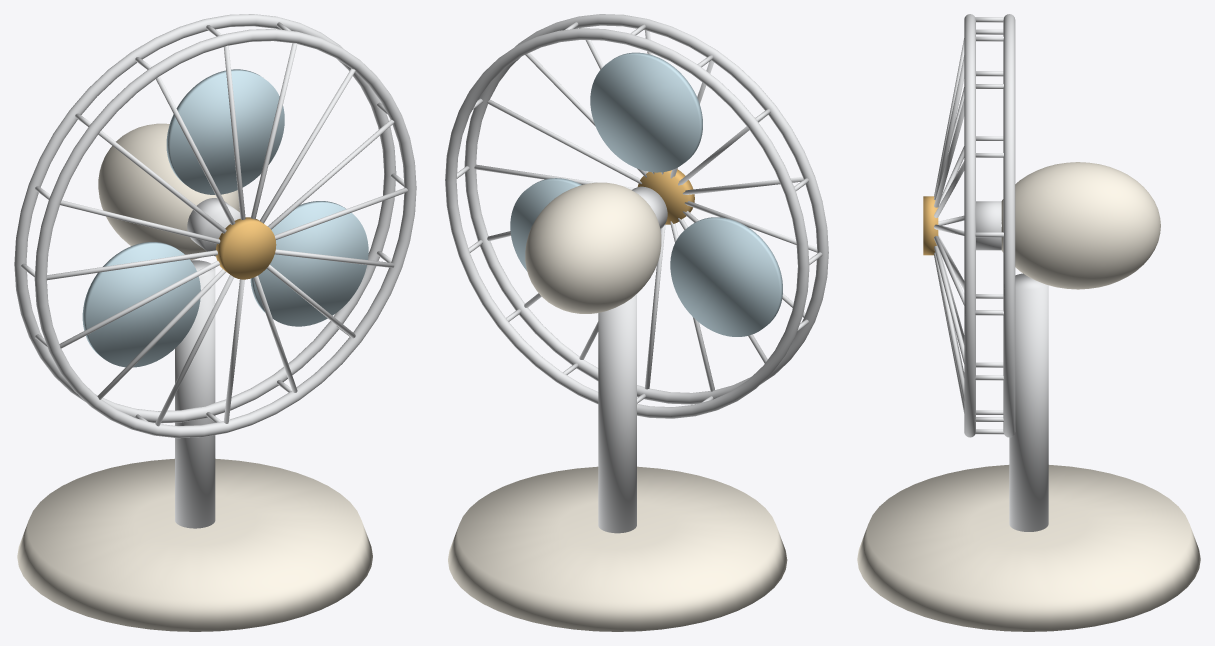
Rendered from electric-fan.glb.
3 renders of one model, left to right at view 1: azimuth 30°, elevation 25°; view 2: azimuth 150°, elevation 25°; view 3: azimuth 270°, elevation 25°, orthographic. The views are drawn at different scales.
Visible parts, largest first — view 1: part0, part3, part4, part1, part41, part10; view 2: part0, part3, part4, part1, part41, part10; view 3: part0, part3, part1, part10, part41.
Part boxes in pixels (x1=…): part0: x1=17, y1=123, x2=372, y2=631; part3: x1=14, y1=14, x2=416, y2=438; part4: x1=82, y1=69, x2=368, y2=367; part1: x1=175, y1=260, x2=215, y2=528; part41: x1=216, y1=217, x2=276, y2=279; part10: x1=21, y1=22, x2=404, y2=422; part0: x1=448, y1=182, x2=787, y2=631; part3: x1=445, y1=14, x2=828, y2=418; part4: x1=510, y1=52, x2=782, y2=336; part1: x1=598, y1=294, x2=636, y2=533; part41: x1=637, y1=169, x2=694, y2=224; part10: x1=456, y1=22, x2=822, y2=403; part0: x1=857, y1=162, x2=1200, y2=631; part3: x1=934, y1=14, x2=1015, y2=437; part1: x1=1009, y1=273, x2=1048, y2=531; part10: x1=975, y1=17, x2=1003, y2=434; part41: x1=923, y1=196, x2=938, y2=255.
Bounding box in the file's own units: 0.731 × 1 × 0.5922.
